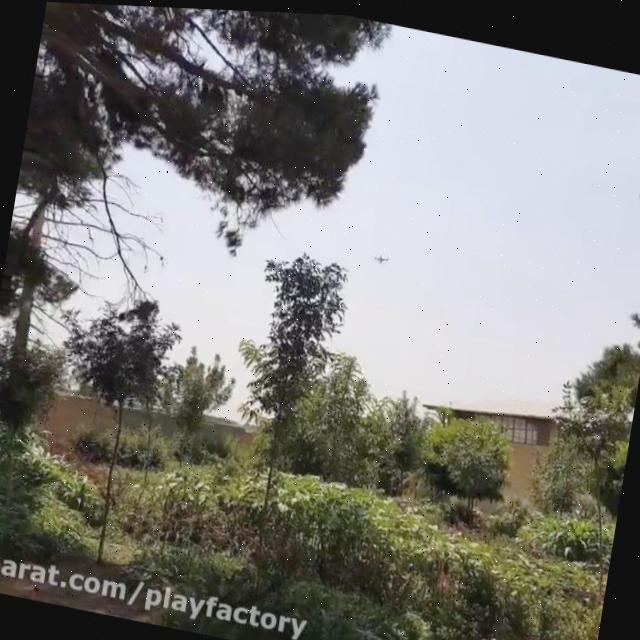drone: (370, 245, 391, 265)
